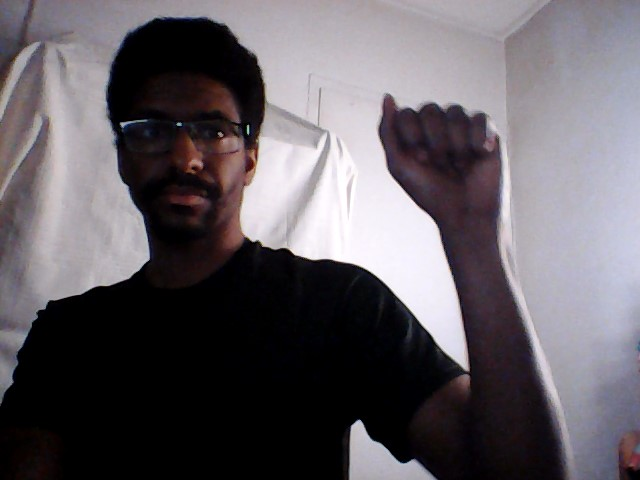a: (373, 88, 517, 229)
